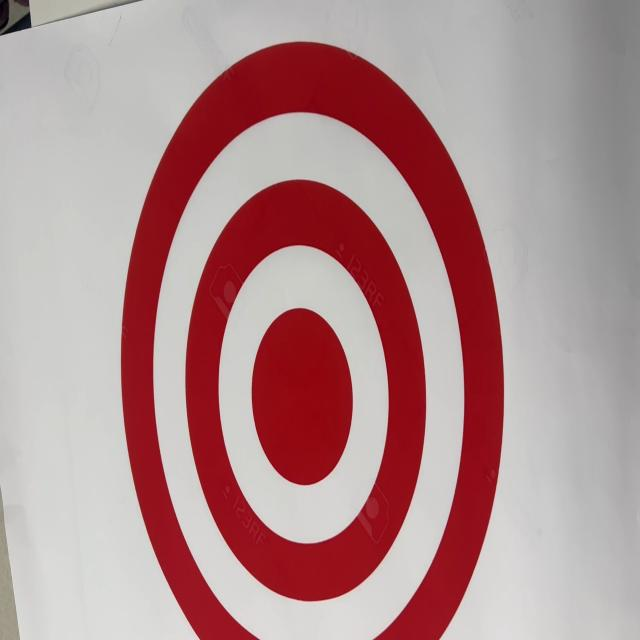target_red: (95, 31, 609, 640)
